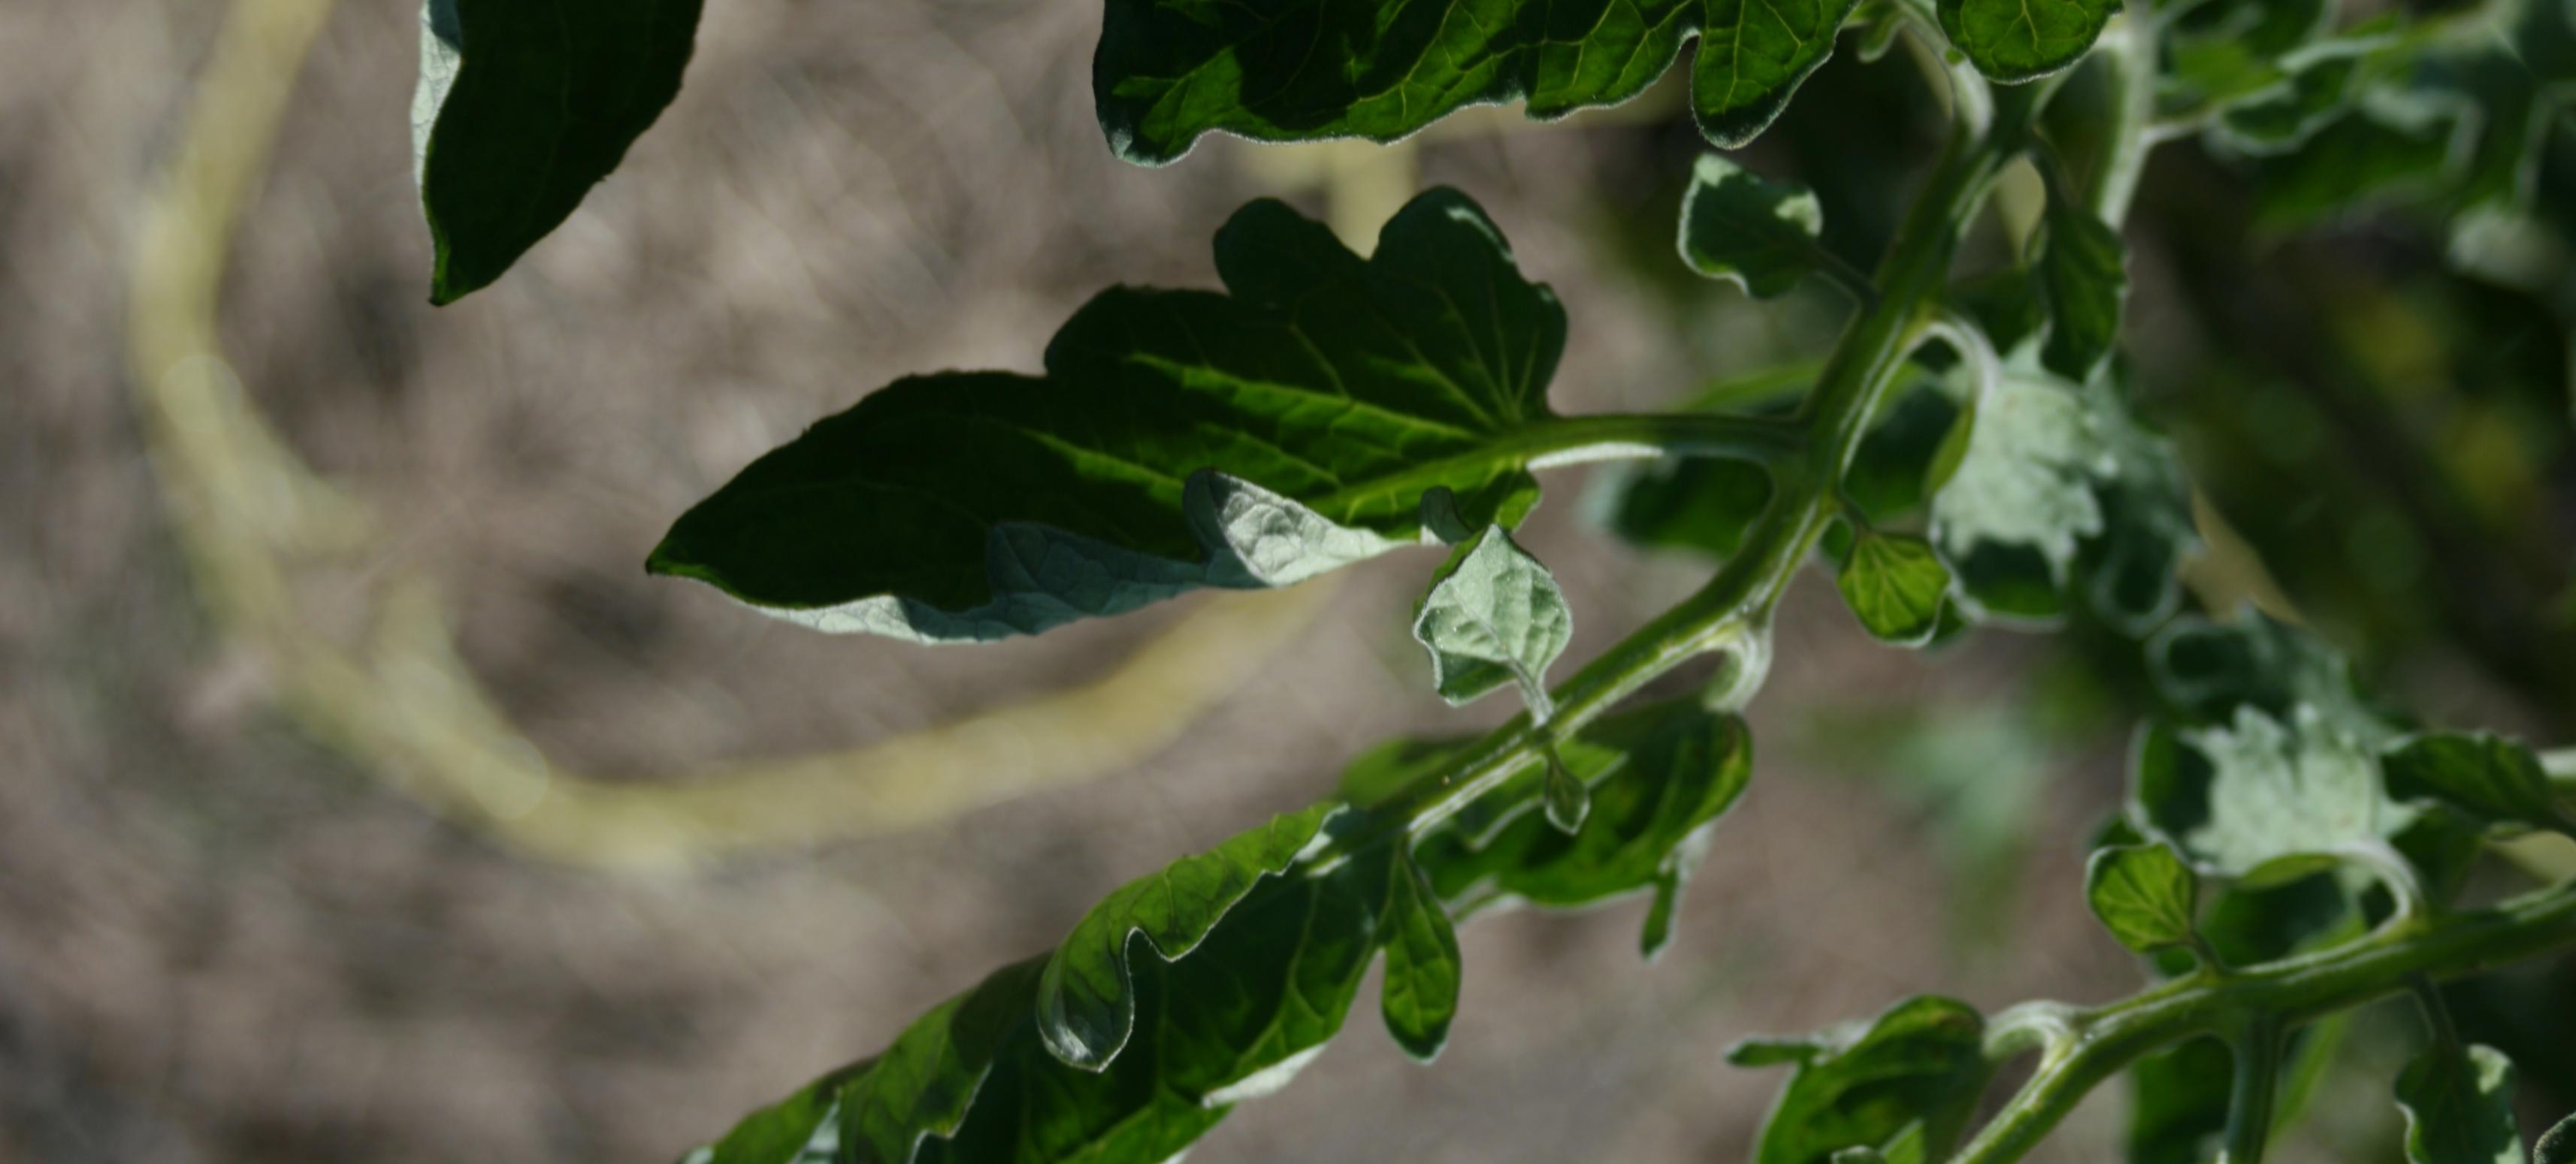Tomato leaf: (629, 3, 1640, 970), (473, 570, 1653, 1164), (1028, 0, 2182, 481)
